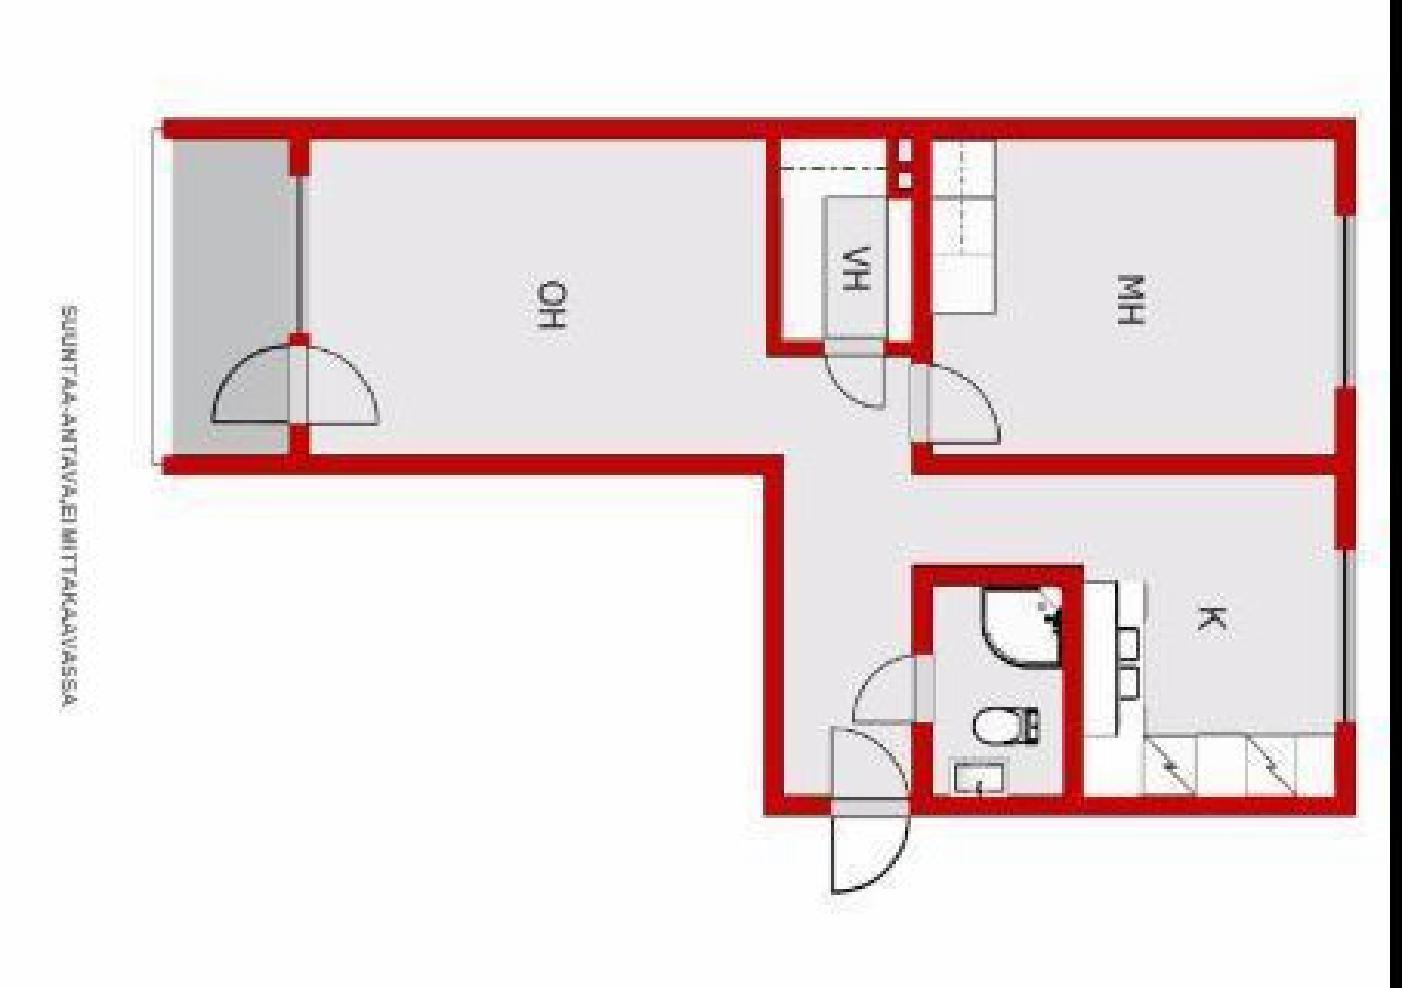door: (200, 342, 386, 432), (828, 721, 913, 899), (902, 365, 1003, 449), (853, 648, 940, 738), (817, 337, 892, 417)
window: (1331, 550, 1356, 719), (287, 180, 312, 330), (1332, 218, 1353, 390)
zone: (311, 134, 1331, 797), (934, 139, 1334, 452), (158, 136, 286, 454), (930, 585, 1065, 789)
